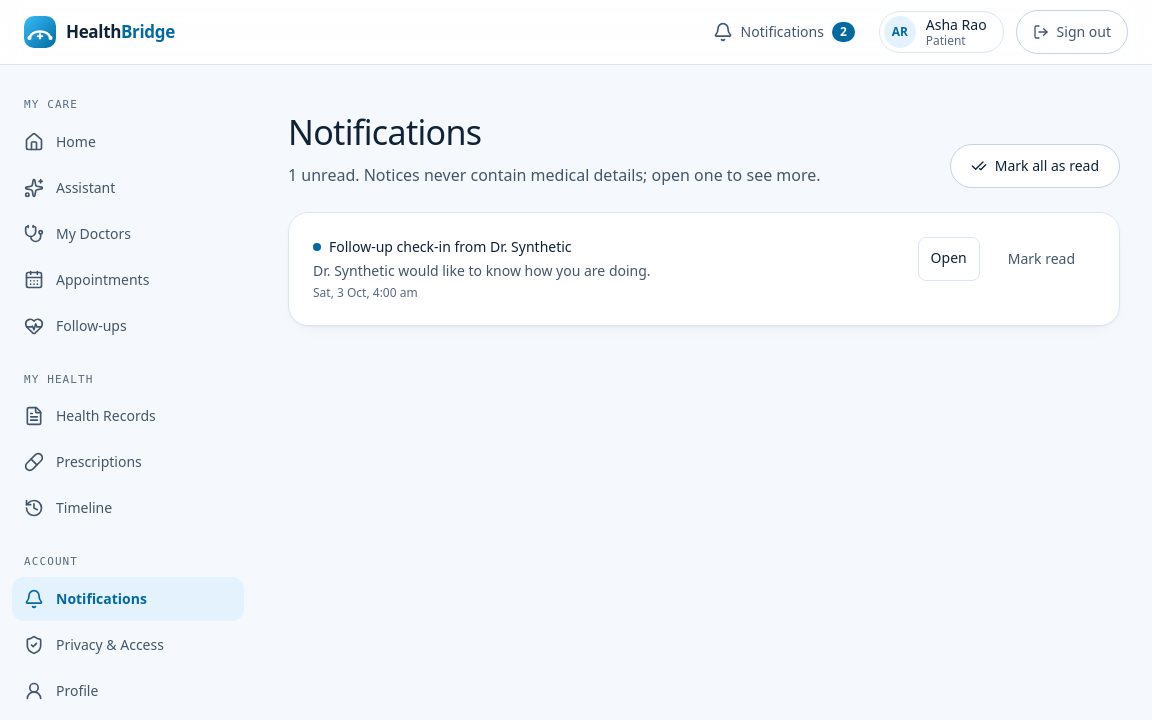
Test case: inbox › shows the unread count in the header and marks notifications read
Expected: the link "Notifications 2" is shown, x1=701 y1=10 x2=867 y2=54
Step 1. Click the button "Mark read" → click(1041, 259), box x1=988 y1=237 x2=1095 y2=281
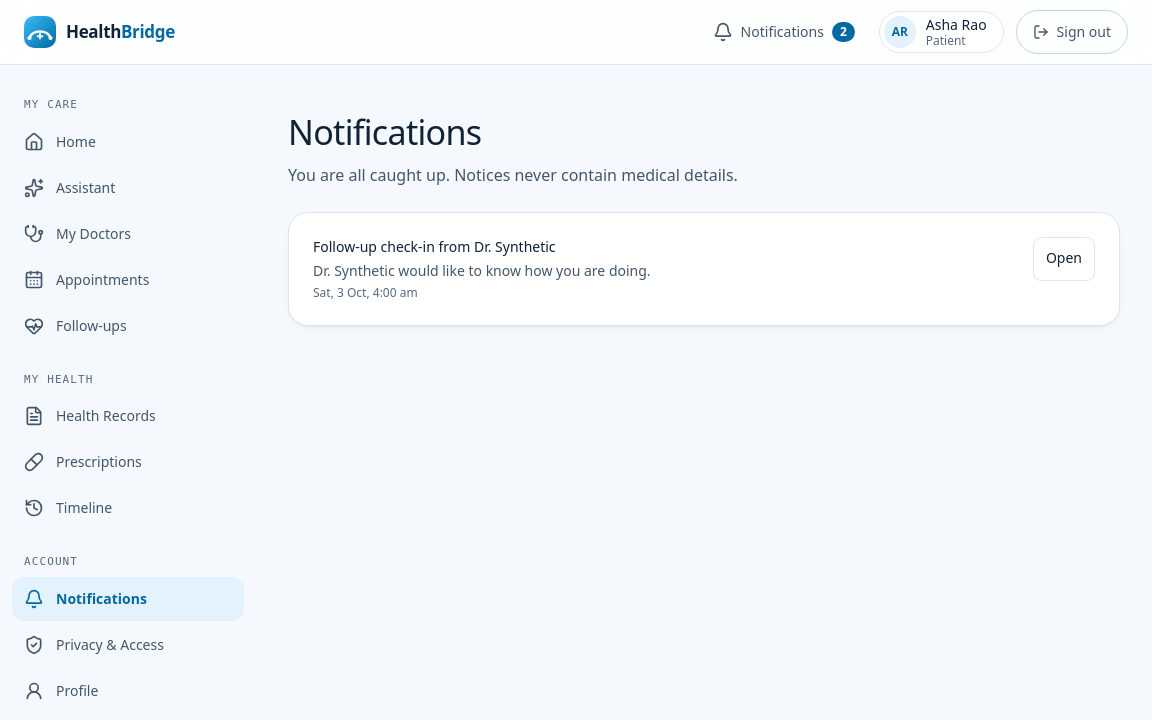
Expected: the text "You are all caught up" is shown, x1=288 y1=164 x2=738 y2=186
